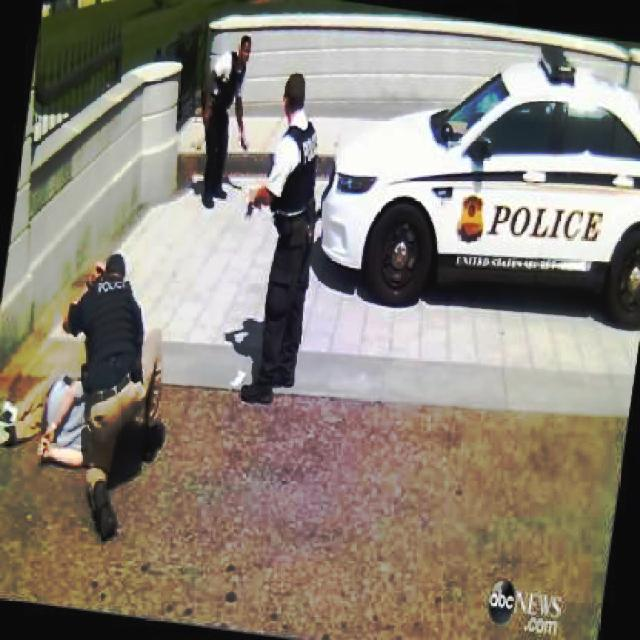Gun: (232, 118, 260, 170)
